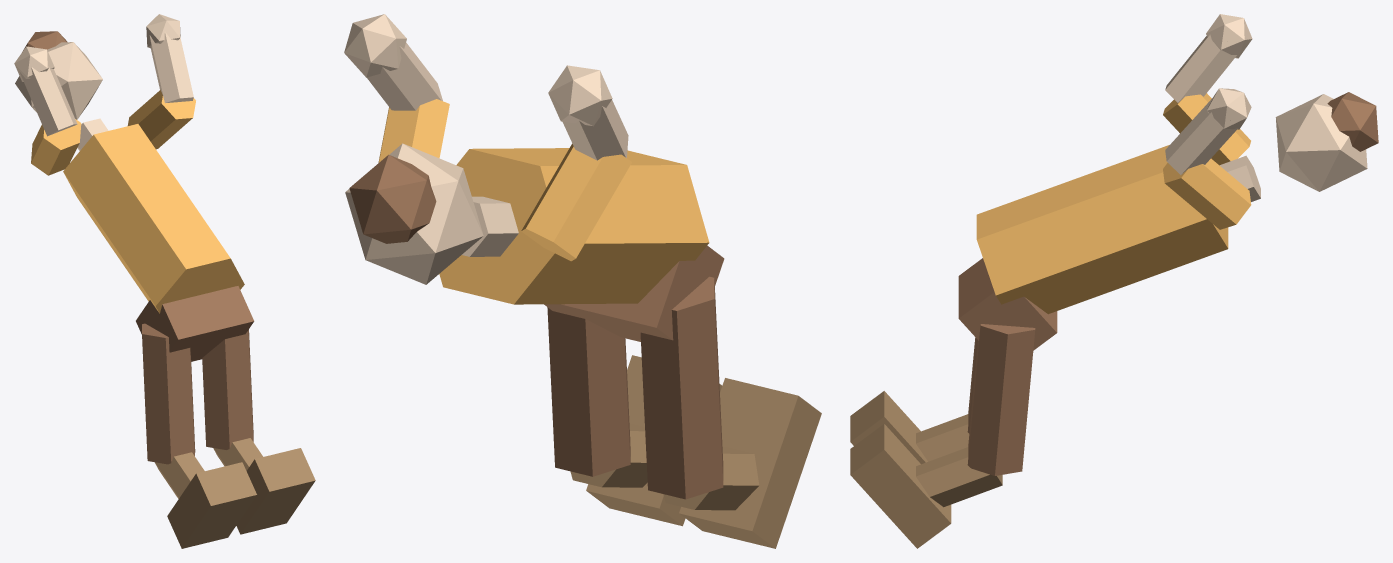
File: pose_dodge_roll_13.glb
3 renders of one model, left to right at view 1: azimuth 30°, elevation 25°; view 2: azimuth 150°, elevation 25°; view 3: azimuth 270°, elevation 25°, orthographic. The views are drawn at different scales.
Parts seen in each view (by area): view 1: pose; view 2: pose; view 3: pose.
Boxes of the visible parts, x1,y1,x2,y2 form: pose: [14, 14, 315, 548]; pose: [344, 14, 821, 548]; pose: [850, 14, 1378, 548].
Size of the model in its own units: 0.4876 by 1.17 by 1.2.
